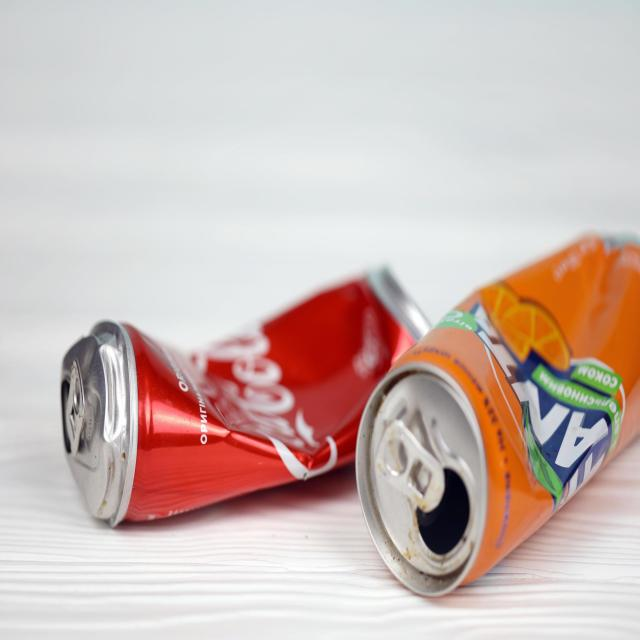can: (356, 230, 640, 600), (62, 263, 435, 528)
pop tab: (375, 420, 446, 515), (62, 358, 87, 459)
